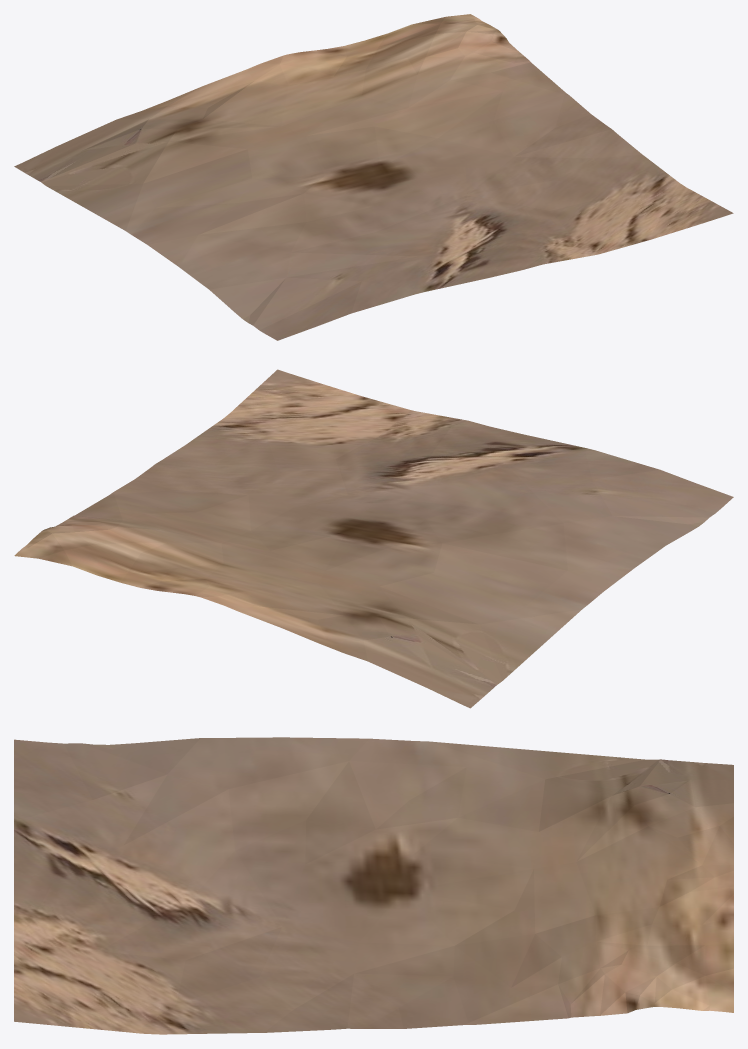
3 renders of one model, top to bottom at view 1: azimuth 30°, elevation 25°; view 2: azimuth 150°, elevation 25°; view 3: azimuth 270°, elevation 25°, orthographic. The views are drawn at different scales.
Bounding box in the file's own units: 1.04 × 0.1138 × 1.04.
Materials: 3 (3 with a texture image).
